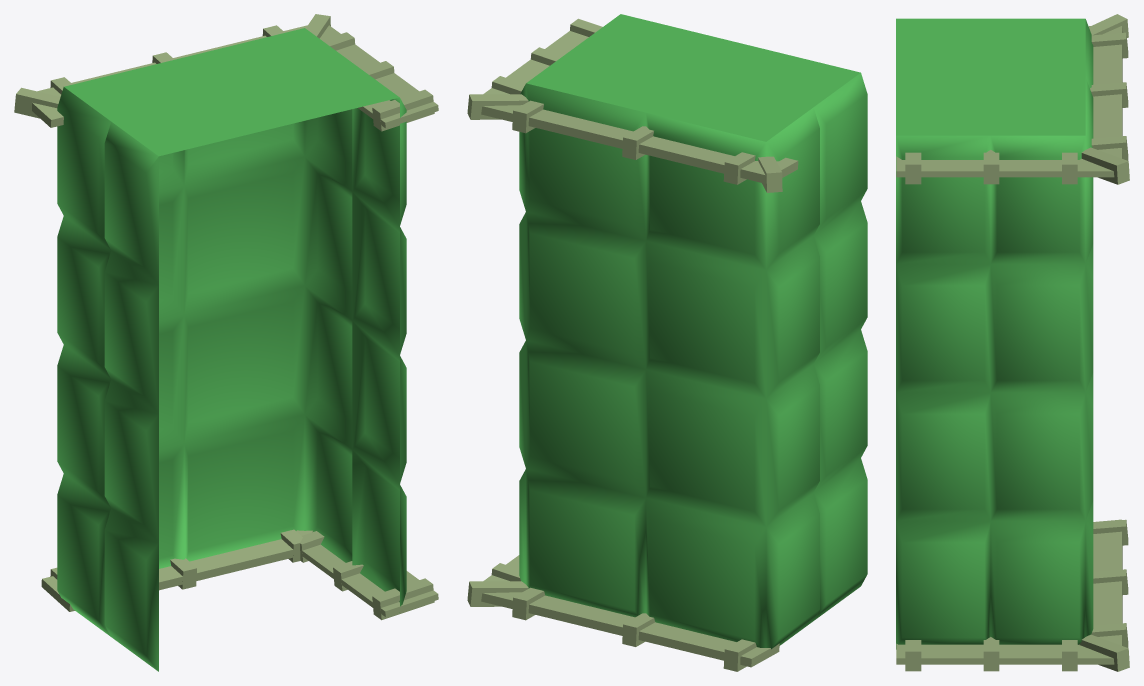
File: CoCoon.fbx
3 views of the same model, side by side, from view 1: azimuth 30°, elevation 25°; view 2: azimuth 150°, elevation 25°; view 3: azimuth 270°, elevation 25° (orthographic).
Visible parts, largest first — view 1: Cocoon; view 2: Cocoon; view 3: Cocoon.
Boxes of the visible parts, x1,y1,x2,y2 form: Cocoon: (14,14,438,671); Cocoon: (467,14,867,671); Cocoon: (896,14,1129,671).
Bounding box in the file's own units: 746 × 1177 × 478.
